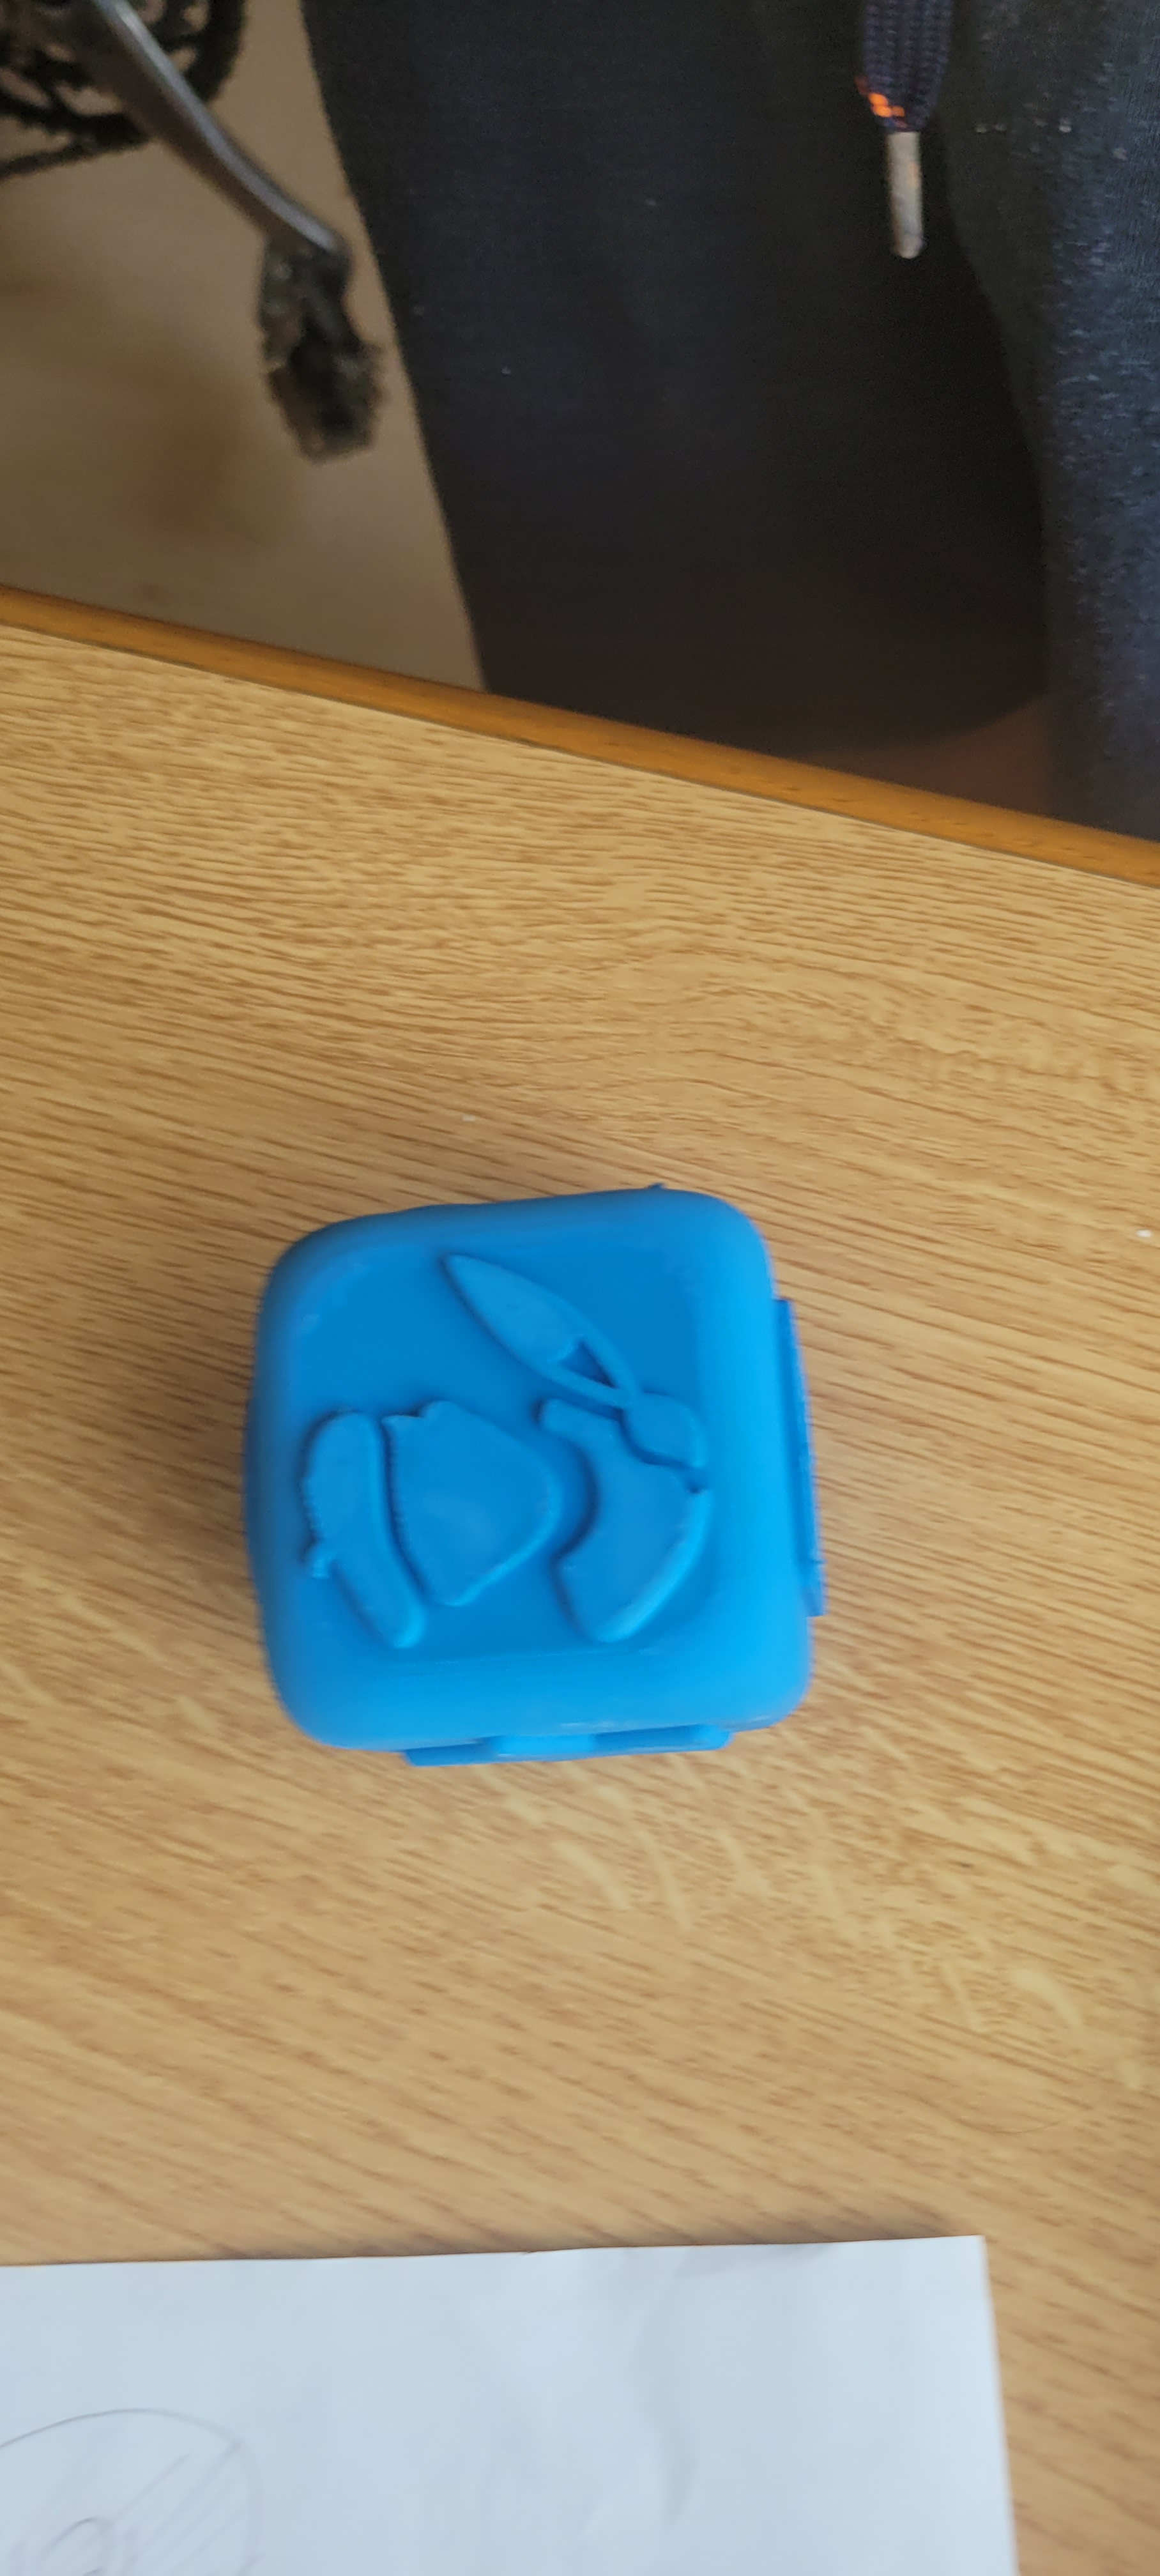Artist_Info: (245, 1170, 868, 1754)
